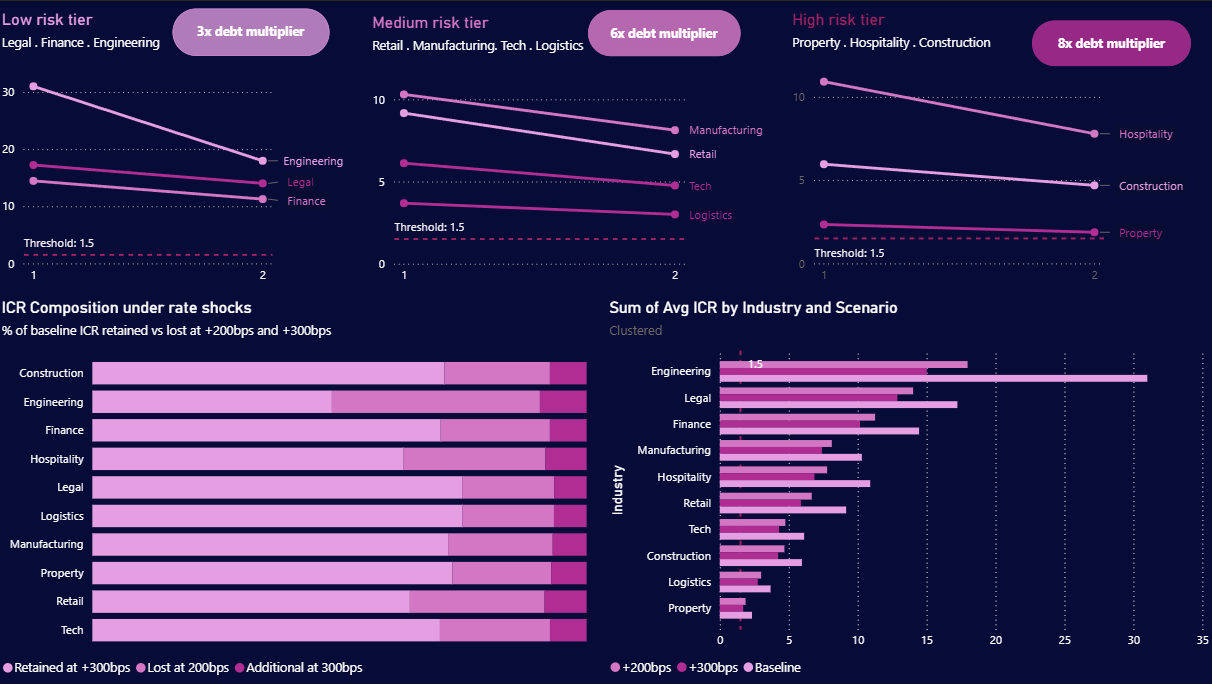

The dashboard page shown, as its layout file describes it:
{"tool":"powerbi","page":{"name":"Industries In Depth","canvas":[1280,720],"ordinal":1},"visuals":[{"type":"lineChart","title":"Low risk tier","fields":{"Y":["Avg(Industry ICR Summary.Avg ICR)"],"Series":["Industry ICR Summary.Industry"],"Category":["Scenario Order.SortOrder"]},"box":[0,9.1,369.5,296.8],"z":0,"group":"g1"},{"type":"lineChart","title":"High risk tier","fields":{"Y":["Avg(Industry ICR Summary.Avg ICR)"],"Series":["Industry ICR Summary.Industry"],"Category":["Scenario Order.SortOrder"]},"box":[832.8,9.1,425.5,296.8],"z":0,"group":"g3"},{"type":"lineChart","title":"Medium risk tier","fields":{"Y":["Avg(Industry ICR Summary.Avg ICR)"],"Series":["Industry ICR Summary.Industry"],"Category":["Scenario Order.SortOrder"]},"box":[390.7,12,420.9,293.9],"z":0,"group":"g2"},{"type":"barChart","title":"ICR Composition under rate shocks","fields":{"Category":["ICR Composition Long.Industry"],"Y":["Sum(ICR Composition Long.Value)"],"Series":["ICR Composition Long.Component"]},"box":[0,312,625.9,408.3],"z":0},{"type":"group","id":"g1","title":"Low Risk ICR","box":[0,7.9,369.5,298],"z":1000},{"type":"textbox","title":"low risk  insight","box":[184.7,7.9,165,50],"z":1000,"group":"g1"},{"type":"textbox","box":[622,9.1,160.4,48.6],"z":1000,"group":"g2"},{"type":"textbox","box":[1090,21.2,167.5,48.1],"z":2000},{"type":"group","id":"g2","title":"Medium Risk ICR","box":[390.7,9.1,420.9,296.8],"z":3000},{"type":"group","id":"g3","title":"High Risk ICR","box":[832.8,9.1,425.5,296.8],"z":4000},{"type":"clusteredBarChart","fields":{"Category":["Industry ICR Summary.Industry"],"Series":["Industry ICR Summary.Scenario"],"Y":["Sum(Industry ICR Summary.Avg ICR)"]},"box":[639.5,312.6,641.1,407.4],"z":5000}]}

Visuals, with their boxes in screenshot pixels (x1, y1, x2, y2), scaled from the page's 1280x720 canvas onto the 1212x684 screenshot:
"Low risk tier" lineChart: l=0, t=9, r=350, b=291
"High risk tier" lineChart: l=789, t=9, r=1191, b=291
"Medium risk tier" lineChart: l=370, t=11, r=768, b=291
"ICR Composition under rate shocks" barChart: l=0, t=296, r=593, b=683
"Low Risk ICR" group: l=0, t=8, r=350, b=291
"low risk  insight" textbox: l=175, t=8, r=331, b=55
textbox: l=589, t=9, r=741, b=55
textbox: l=1032, t=20, r=1191, b=66
"Medium Risk ICR" group: l=370, t=9, r=768, b=291
"High Risk ICR" group: l=789, t=9, r=1191, b=291
clusteredBarChart - Industry ICR Summary.Industry x Industry ICR Summary.Scenario: l=606, t=297, r=1211, b=683
